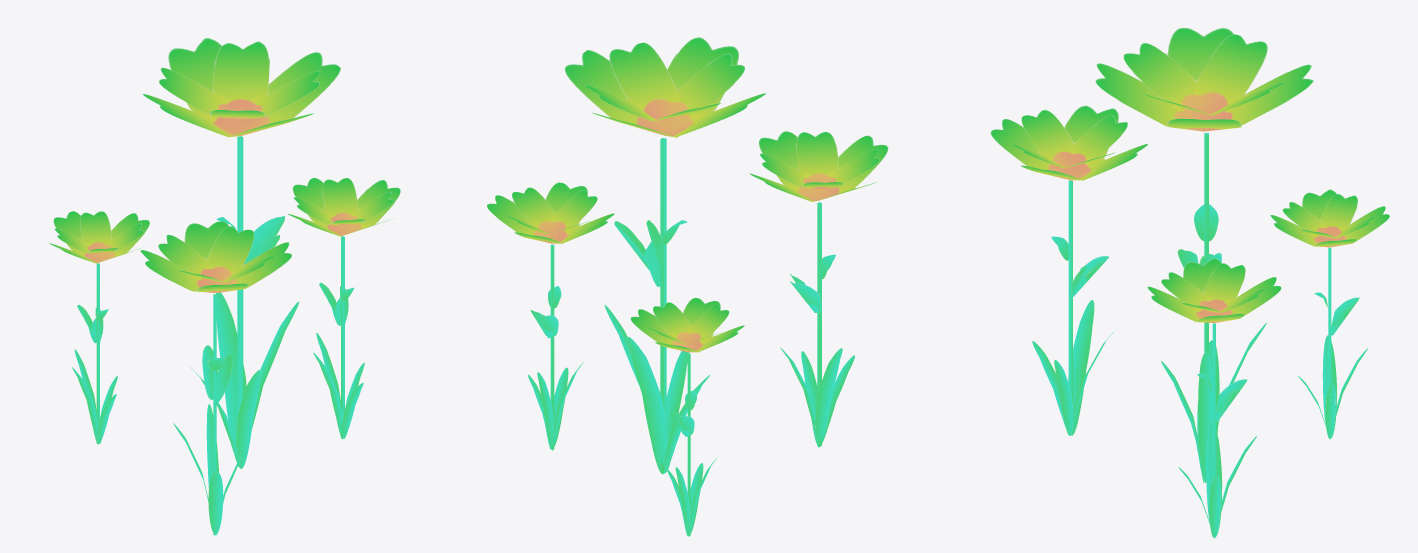
Rendered from Flower_n_03.fbx.
3 views of the same model, side by side, from view 1: azimuth 30°, elevation 25°; view 2: azimuth 150°, elevation 25°; view 3: azimuth 270°, elevation 25° (orthographic). The views are drawn at different scales.
Parts seen in each view (by area): view 1: polySurface234; view 2: polySurface234; view 3: polySurface234.
Part boxes in pixels (<box>): polySurface234: <box>49,38,400,535</box>; polySurface234: <box>487,37,888,536</box>; polySurface234: <box>990,28,1389,538</box>.
Bounding box in the file's own units: 62.46 × 66.84 × 64.31.
Materials: 1 (1 with a texture image).
